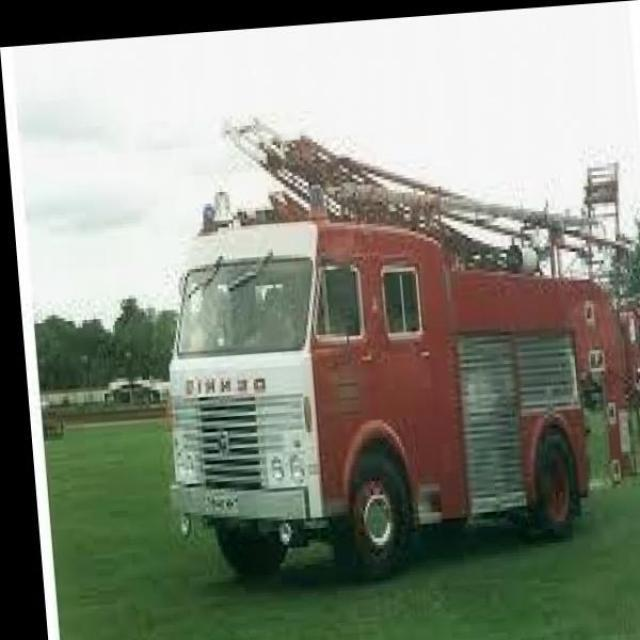emergency: (164, 114, 638, 582)
